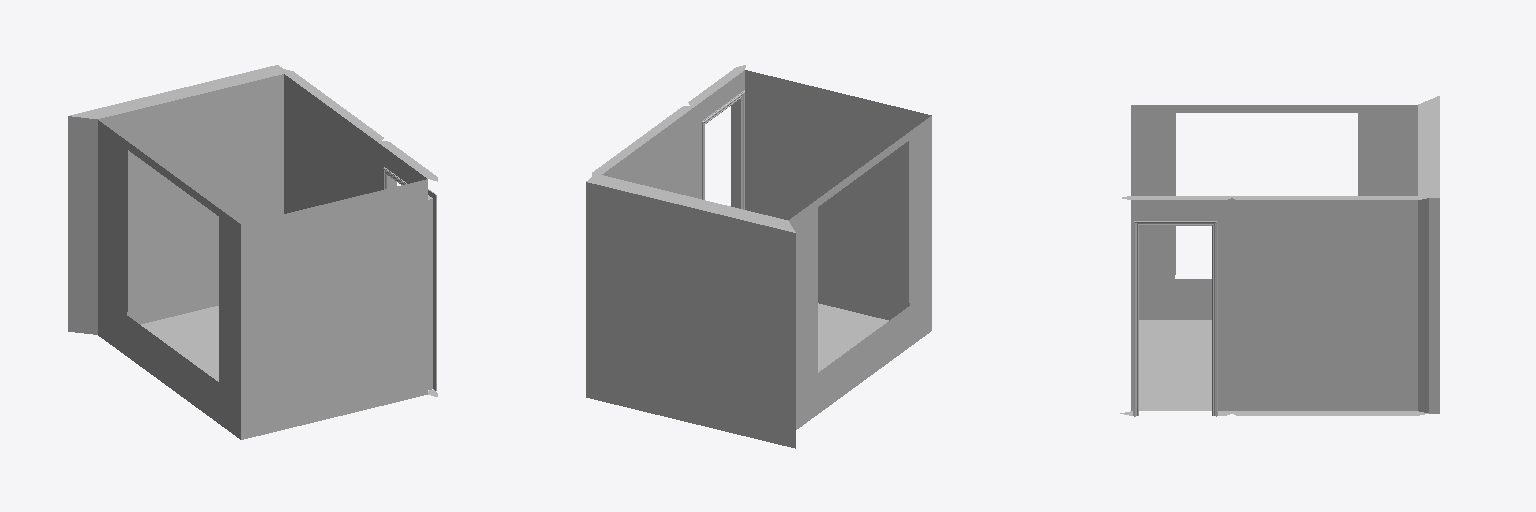
The model's file is mesh_noceilling.obj.
3 renders of one model, left to right at view 1: azimuth 30°, elevation 25°; view 2: azimuth 150°, elevation 25°; view 3: azimuth 270°, elevation 25°, orthographic.
Bounding box in the file's own units: 2.74 × 2.6 × 3.5.